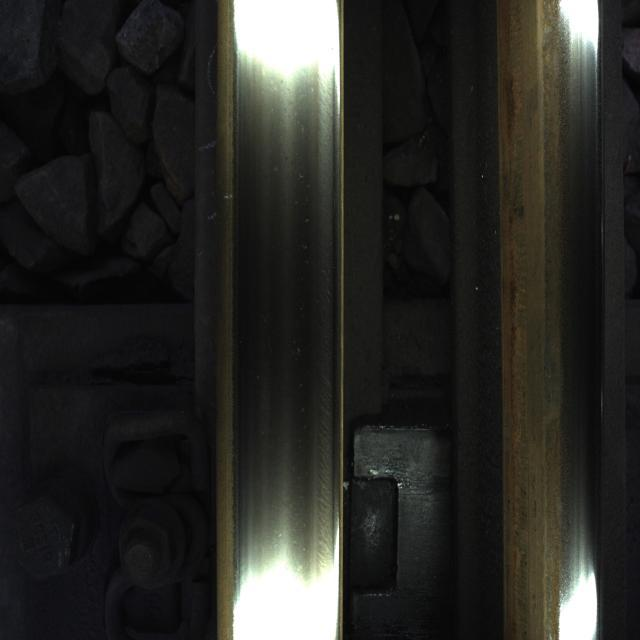break: (236, 48, 330, 542)
